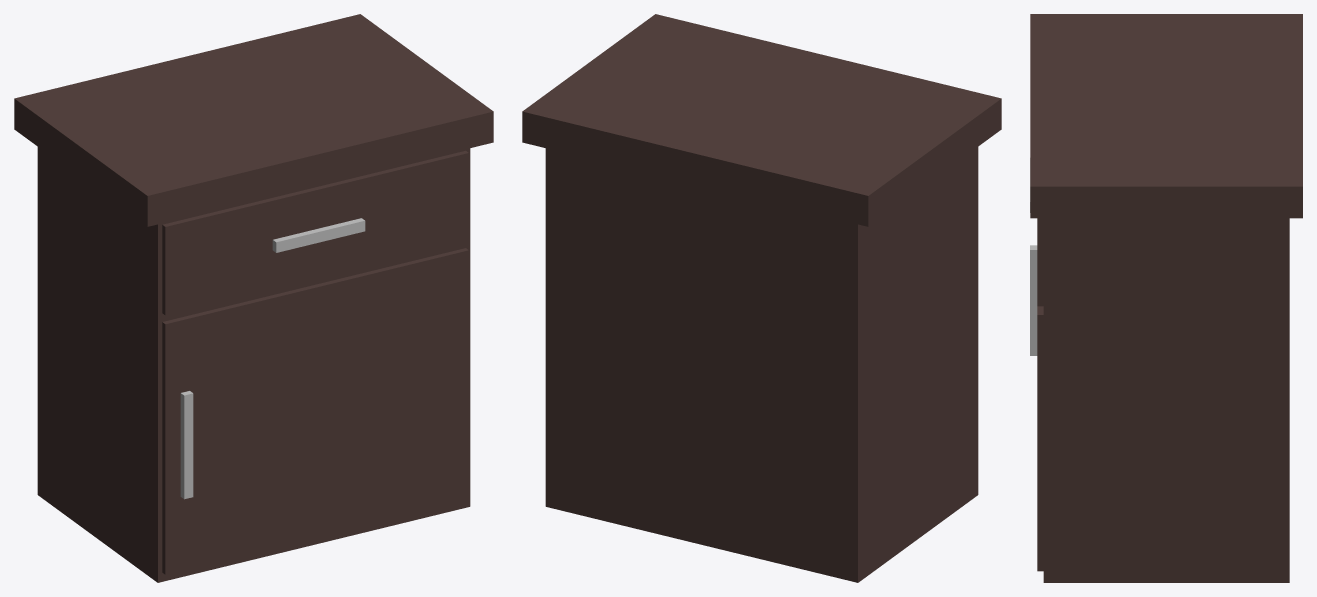
Rendered from Drawer01.fbx.
3 renders of one model, left to right at view 1: azimuth 30°, elevation 25°; view 2: azimuth 150°, elevation 25°; view 3: azimuth 270°, elevation 25°, orthographic. The views are drawn at different scales.
Visible parts, largest first — view 1: Cube.054; view 2: Cube.054; view 3: Cube.054.
Part boxes in pixels (<box>): Cube.054: <box>14,14,493,582</box>; Cube.054: <box>522,14,1001,582</box>; Cube.054: <box>1030,14,1302,582</box>.
Size of the model in its own units: 83.08 by 90.78 by 55.45.
